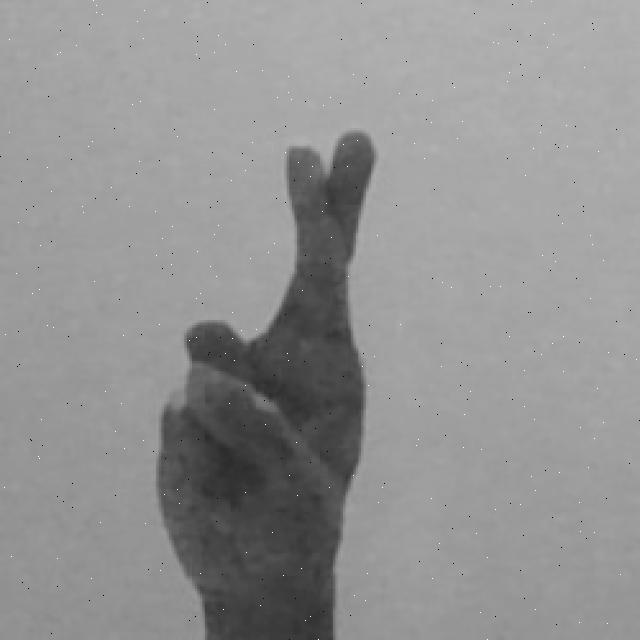R: (149, 123, 385, 640)
